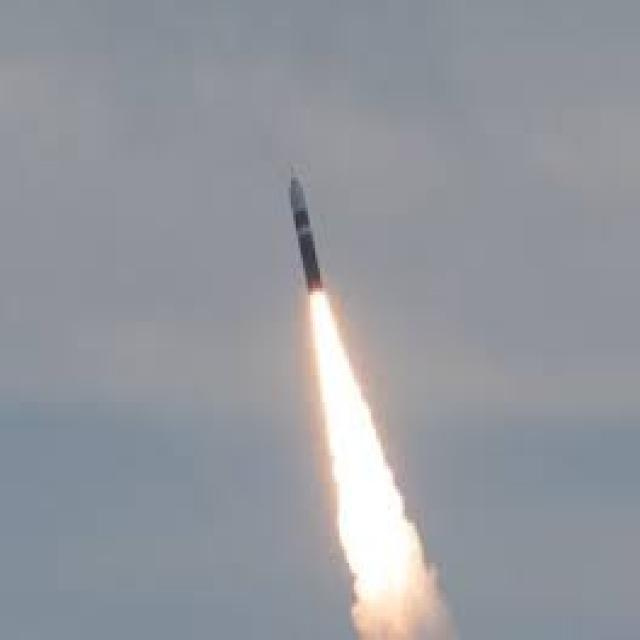missile: (290, 171, 328, 295)
